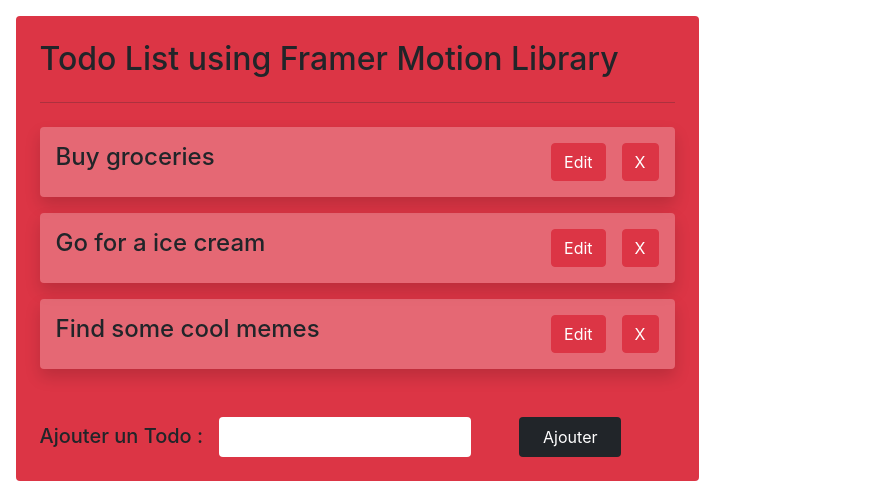
it: TodoListLibrary tests › Suppression du todo "Buy groceries" de la liste
The image size is (881, 498).
Click the button "X" in the row of "Buy groceries": (640, 162) [622, 143, 658, 181]
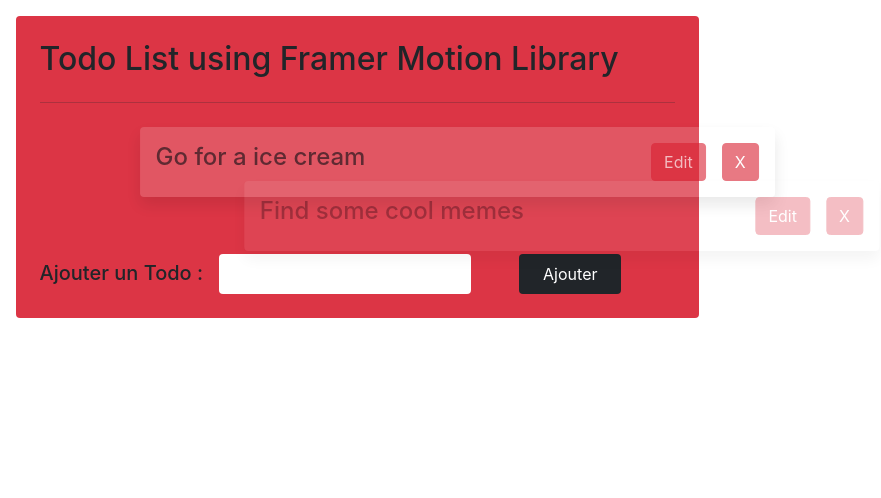
Check: the text "Buy groceries" is gone
